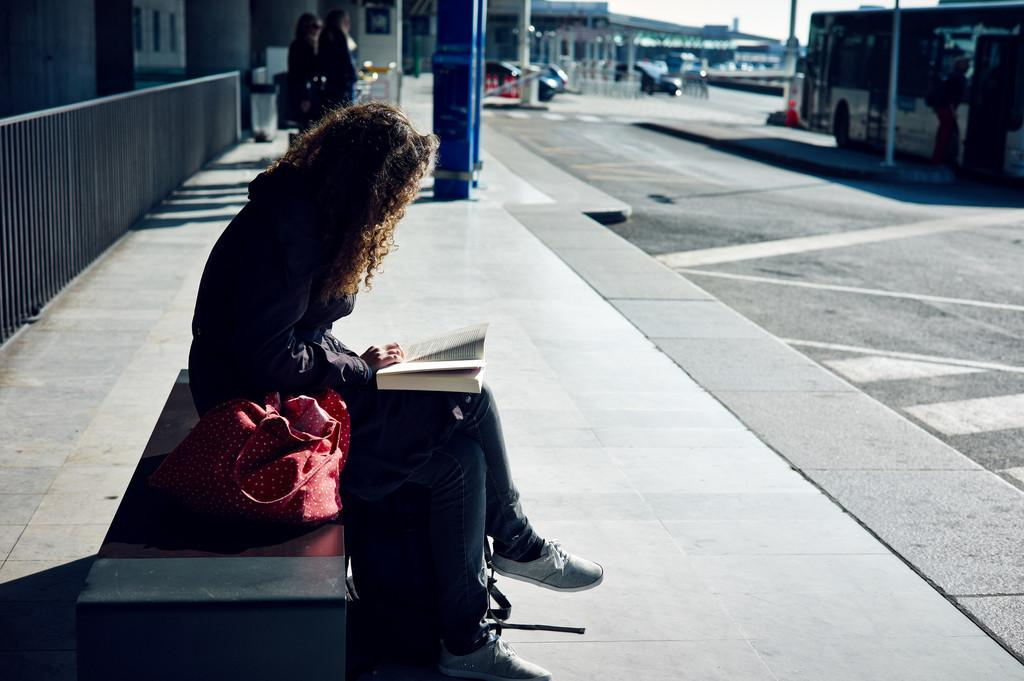Luggage-and-bags: (154, 389, 369, 540)
